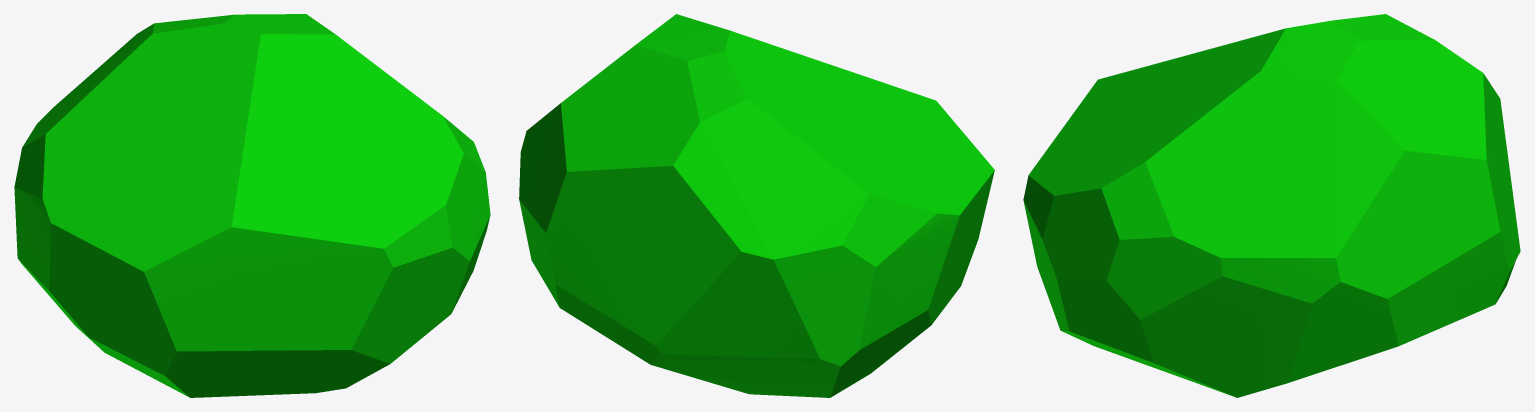
File: UCX_tsumiishi3r.fbx
3 renders of one model, left to right at view 1: azimuth 30°, elevation 25°; view 2: azimuth 150°, elevation 25°; view 3: azimuth 270°, elevation 25°, orthographic. The views are drawn at different scales.
Visible parts, largest first — view 1: UCX_tsumiishi3r_low; view 2: UCX_tsumiishi3r_low; view 3: UCX_tsumiishi3r_low.
Boxes of the visible parts, left/top/right/bottom form: UCX_tsumiishi3r_low: left=14, top=14, right=490, bottom=397; UCX_tsumiishi3r_low: left=519, top=14, right=994, bottom=397; UCX_tsumiishi3r_low: left=1023, top=14, right=1520, bottom=397.
Size of the model in its own units: 0.0751 by 0.0525 by 0.074.
